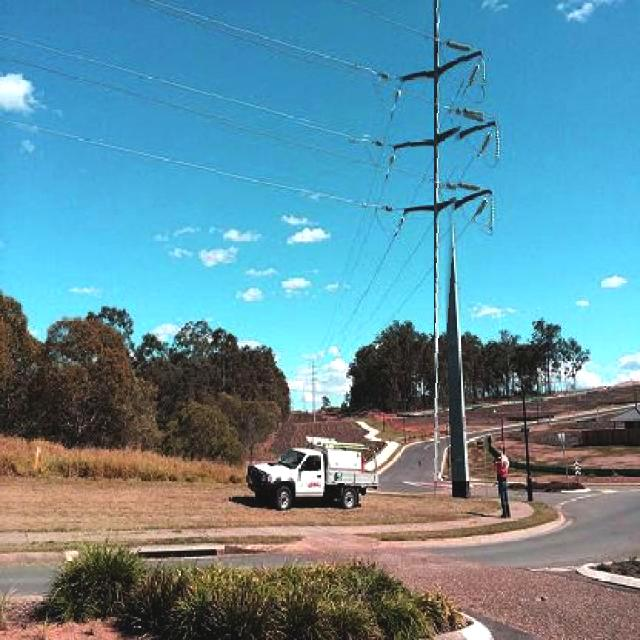crossarm: (392, 38, 485, 86), (399, 115, 501, 157), (396, 185, 490, 213)
pole: (434, 0, 446, 498)
wire: (8, 31, 372, 140), (10, 121, 357, 208), (146, 0, 377, 71), (366, 221, 437, 334), (337, 231, 399, 333)
